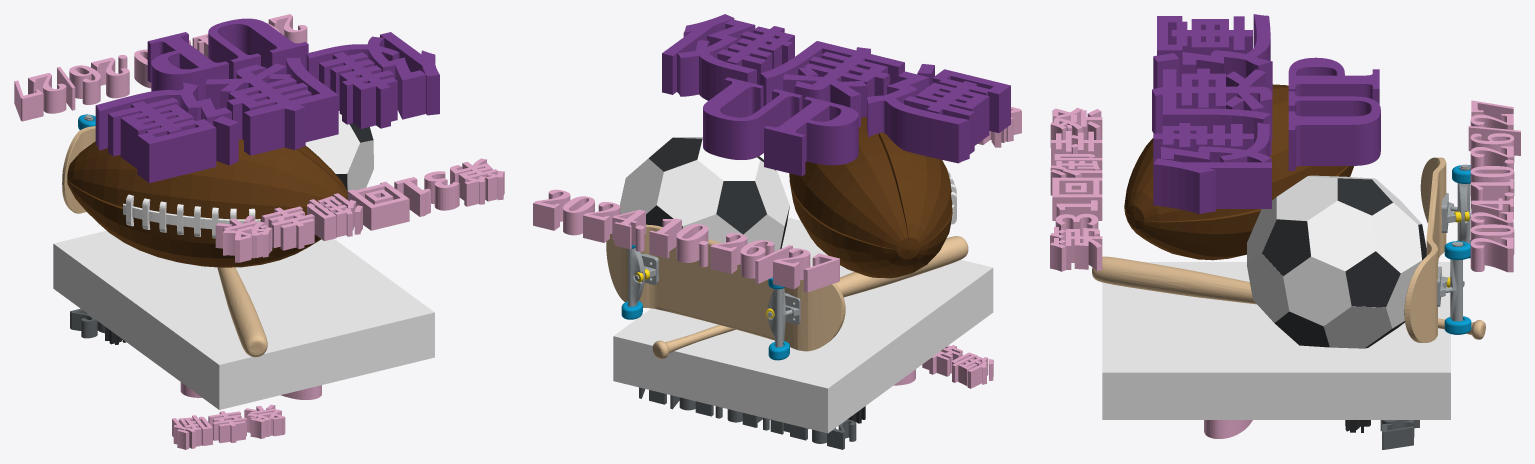
Rendered from tinker.obj.
3 renders of one model, left to right at view 1: azimuth 30°, elevation 25°; view 2: azimuth 150°, elevation 25°; view 3: azimuth 270°, elevation 25°, orthographic. The views are drawn at different scales.
Parts seen in each view (by area): view 1: group_0_16448250, group_0_8273816, group_0_15708628, group_0_6306067, group_0_14860437, group_0_6383466, group_0_2829873; view 2: group_0_16448250, group_0_8273816, group_0_6306067, group_0_15708628, group_0_14860437, group_0_2829873, group_0_6383466, group_0_10988977, group_0_40919; view 3: group_0_16448250, group_0_8273816, group_0_15708628, group_0_6306067, group_0_14860437, group_0_2829873, group_0_10988977, group_0_40919, group_0_6383466.
Boxes of the visible parts, left/top/right/bottom form: group_0_16448250: left=53, top=111, right=434, bottom=409; group_0_8273816: left=95, top=18, right=439, bottom=183; group_0_15708628: left=14, top=14, right=504, bottom=449; group_0_6306067: left=67, top=139, right=347, bottom=267; group_0_14860437: left=62, top=126, right=267, bottom=357; group_0_6383466: left=70, top=308, right=104, bottom=338; group_0_2829873: left=105, top=123, right=373, bottom=344; group_0_16448250: left=613, top=137, right=993, bottom=433; group_0_8273816: left=662, top=14, right=1010, bottom=176; group_0_6306067: left=789, top=116, right=952, bottom=278; group_0_15708628: left=533, top=107, right=1021, bottom=388; group_0_14860437: left=606, top=224, right=968, bottom=359; group_0_2829873: left=646, top=138, right=865, bottom=423; group_0_6383466: left=639, top=387, right=856, bottom=449; group_0_10988977: left=628, top=248, right=800, bottom=347; group_0_40919: left=621, top=245, right=789, bottom=360; group_0_16448250: left=1102, top=175, right=1450, bottom=419; group_0_8273816: left=1152, top=14, right=1380, bottom=214; group_0_15708628: left=1050, top=100, right=1520, bottom=438; group_0_6306067: left=1124, top=84, right=1353, bottom=260; group_0_14860437: left=1092, top=157, right=1485, bottom=342; group_0_2829873: left=1250, top=178, right=1426, bottom=432; group_0_10988977: left=1437, top=164, right=1470, bottom=334; group_0_40919: left=1444, top=165, right=1471, bottom=334; group_0_6383466: left=1380, top=420, right=1419, bottom=449.
Size of the model in its own units: 21.88 by 20.33 by 27.
